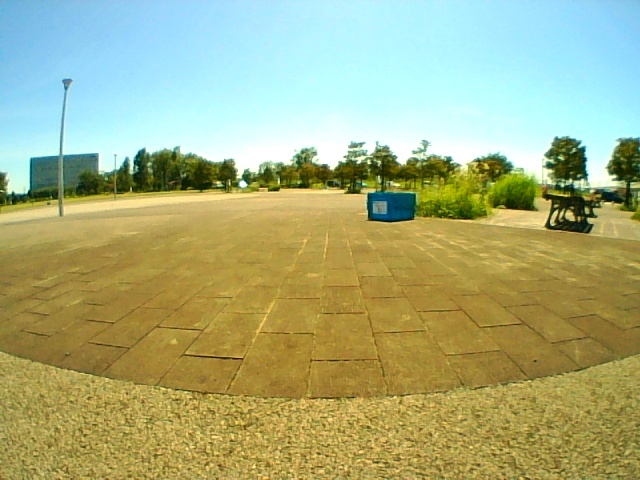blue_box: (369, 194, 414, 222)
tag: (372, 202, 386, 214)
